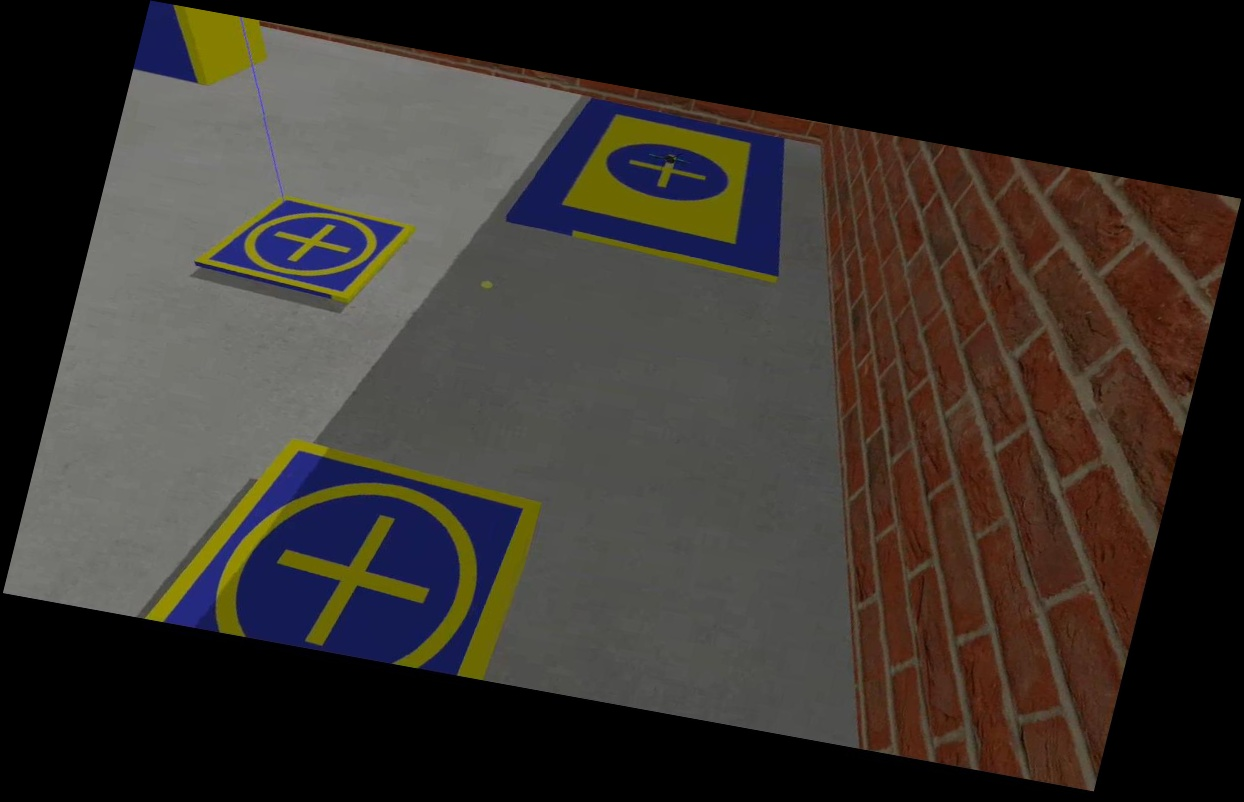large_base: (497, 81, 816, 290)
small_base: (146, 423, 551, 685), (190, 174, 419, 318)
